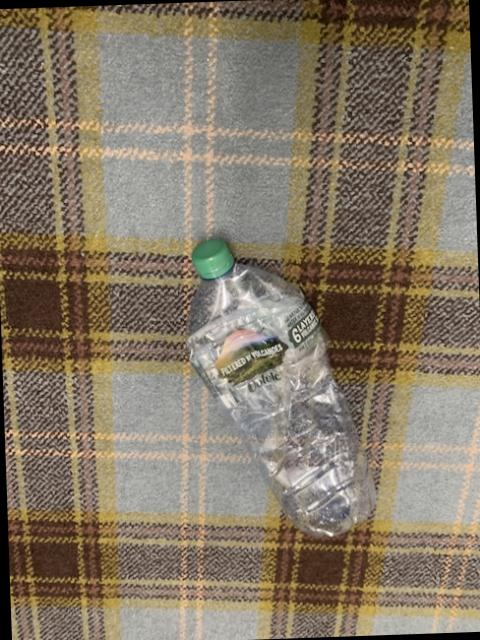plastic: (187, 241, 376, 537)
